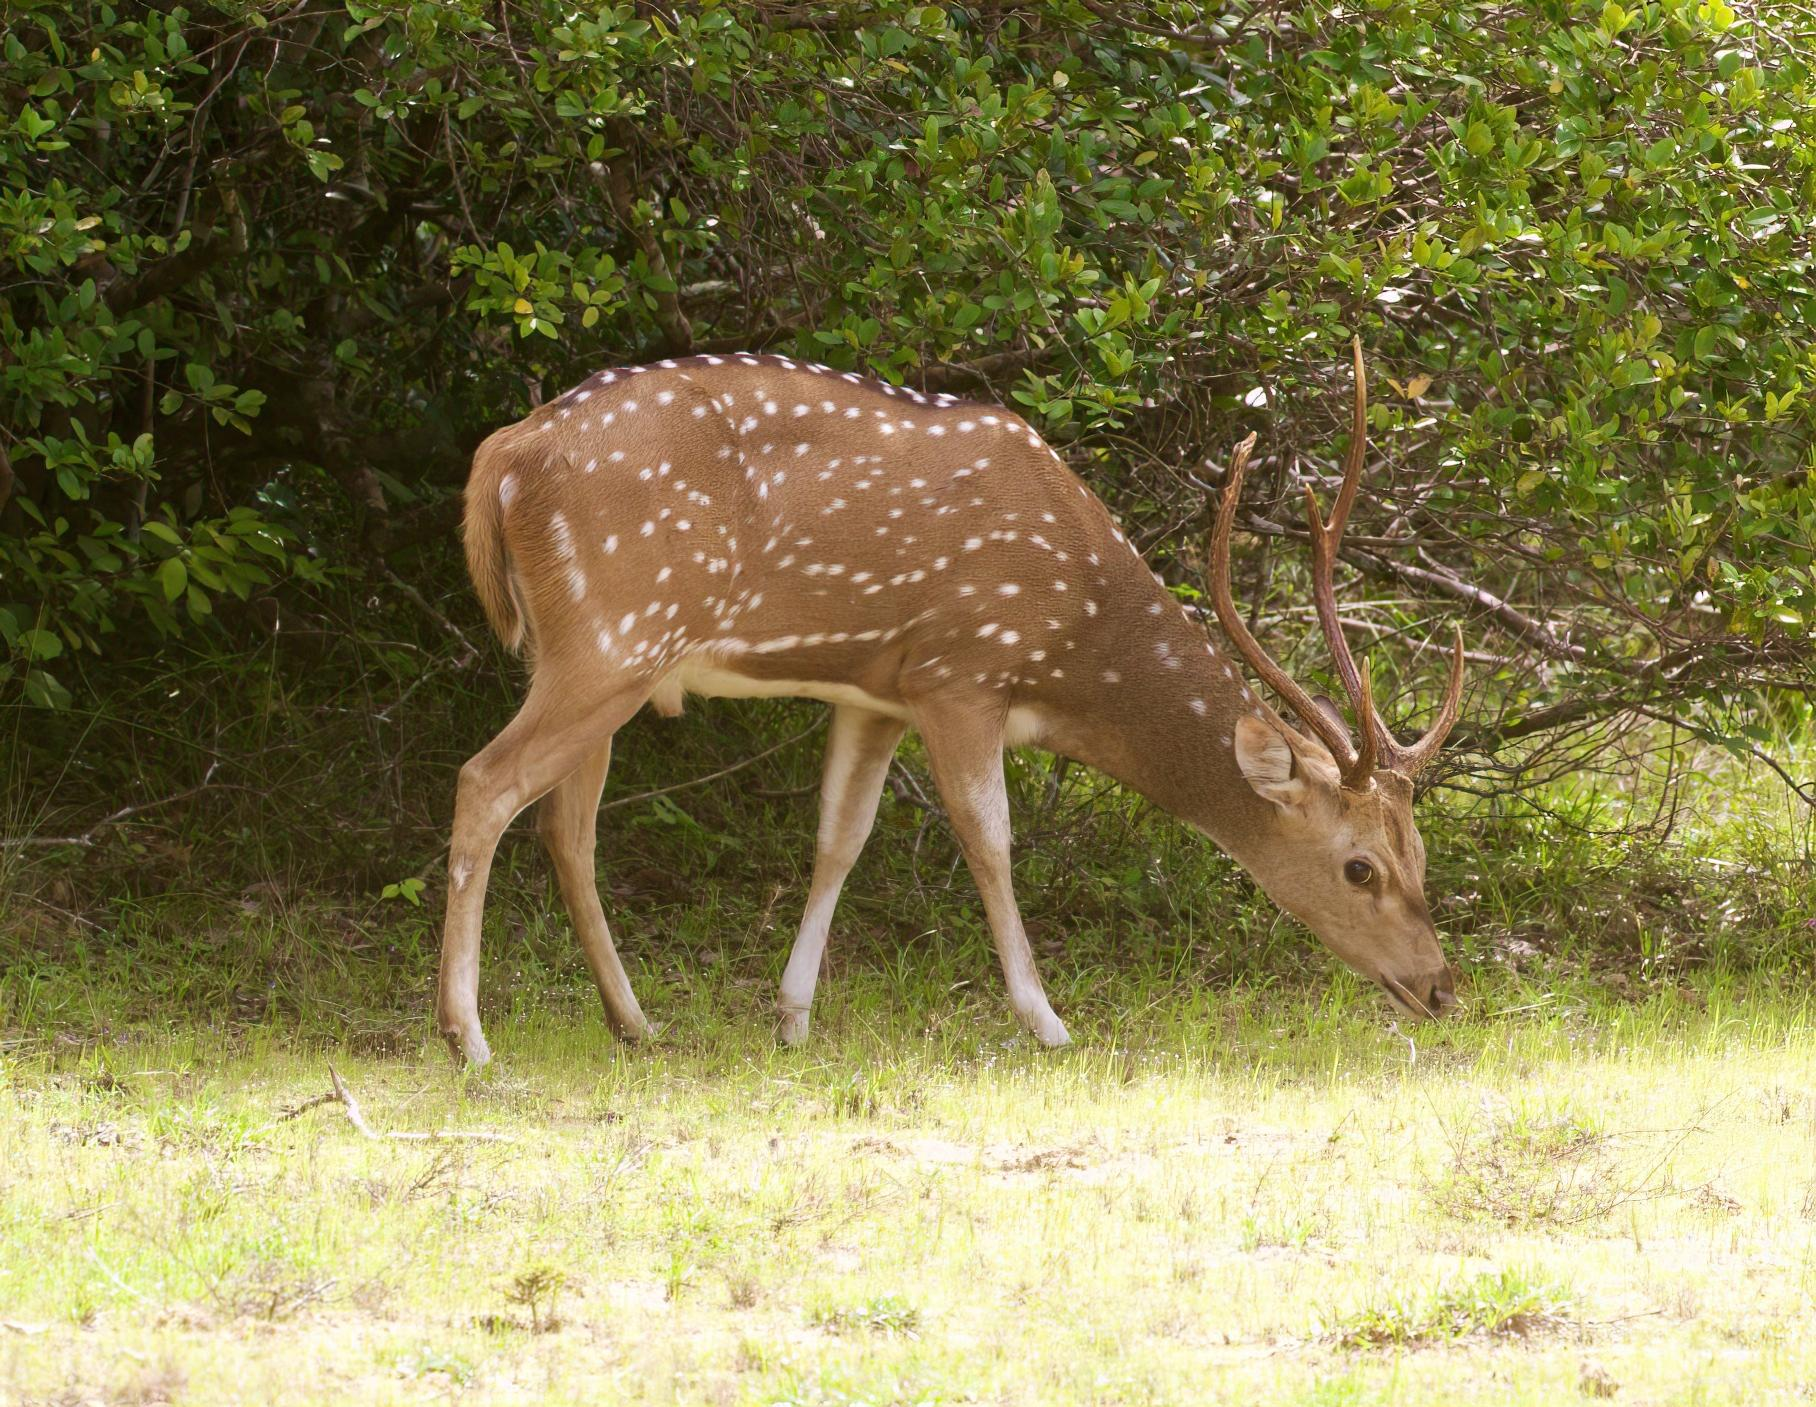Deer: (436, 340, 1464, 1064)
